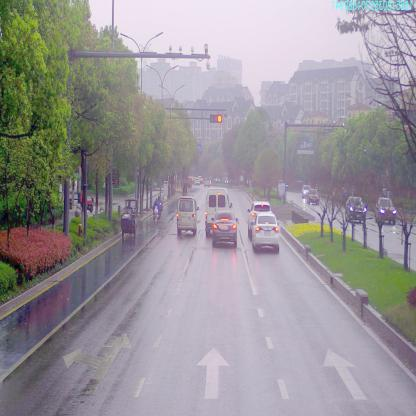traffic-light: (210, 113, 223, 122)
